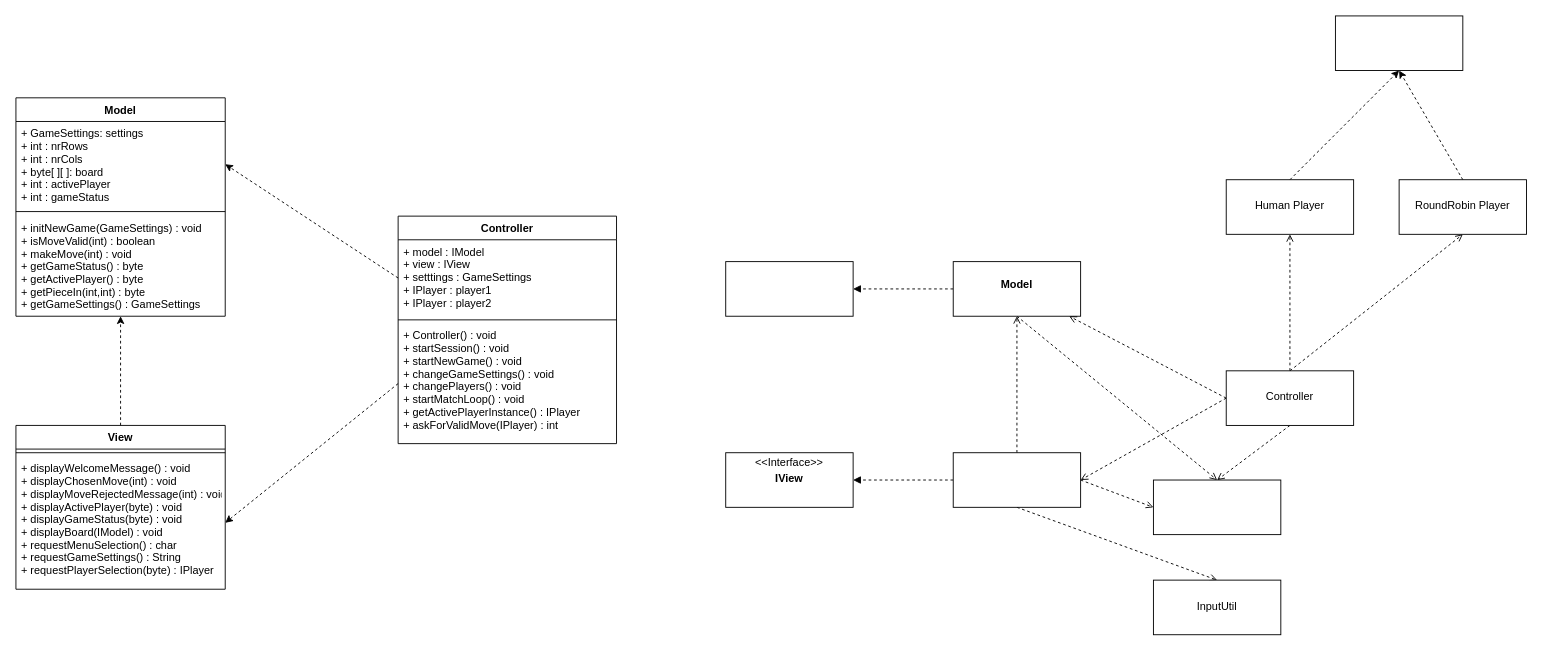
The diagram is 1542 pixels wide and 651 high, and some of its shapes have lost their labels. The centre of each missing label's shape, as x and y in pixels:
"<<Interface>> IModel" belongs at point (789, 288).
"<<Interface>> IPlayer" belongs at point (1399, 43).
"GameSettings" belongs at point (1217, 507).
"TextView" belongs at point (1016, 479).
